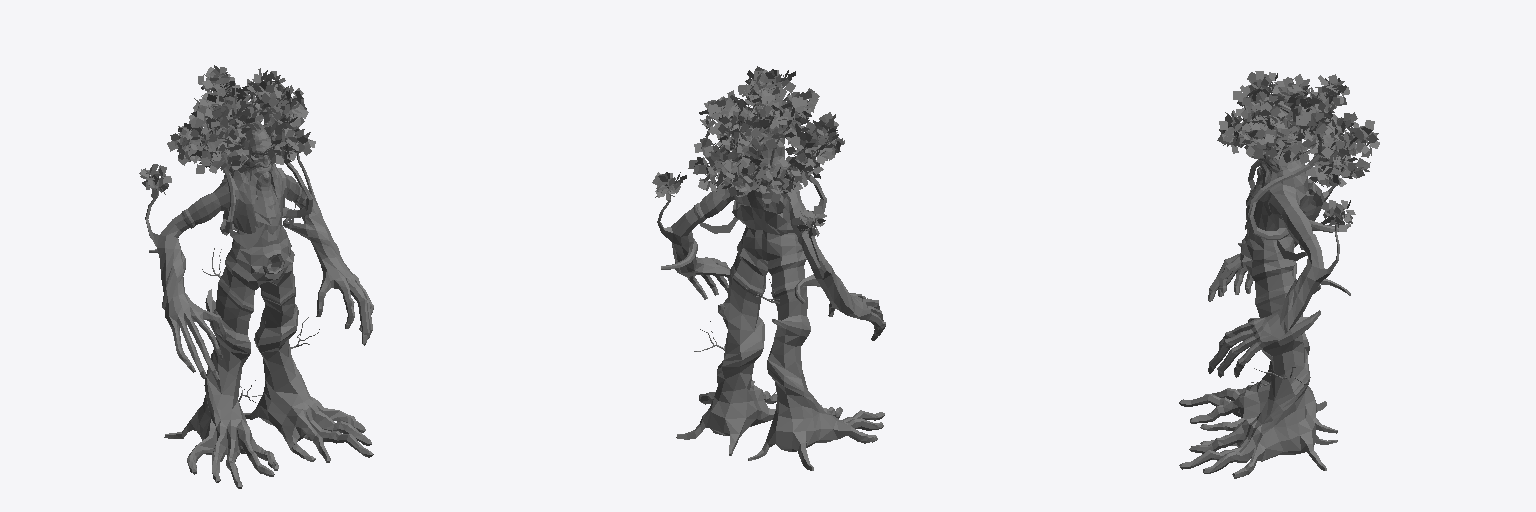
File: Treebeard-the-Ent-obj.obj
The picture shows the model from 3 angles: view 1: azimuth 30°, elevation 25°; view 2: azimuth 150°, elevation 25°; view 3: azimuth 270°, elevation 25°; orthographic projection.
Parts seen in each view (by area): view 1: objENT; view 2: objENT; view 3: objENT.
Part boxes in pixels (bbox=[...]): objENT: bbox=[139, 65, 373, 488]; objENT: bbox=[652, 66, 885, 470]; objENT: bbox=[1179, 71, 1379, 478].
Bounding box in the file's own units: 1554 × 2769 × 1385.